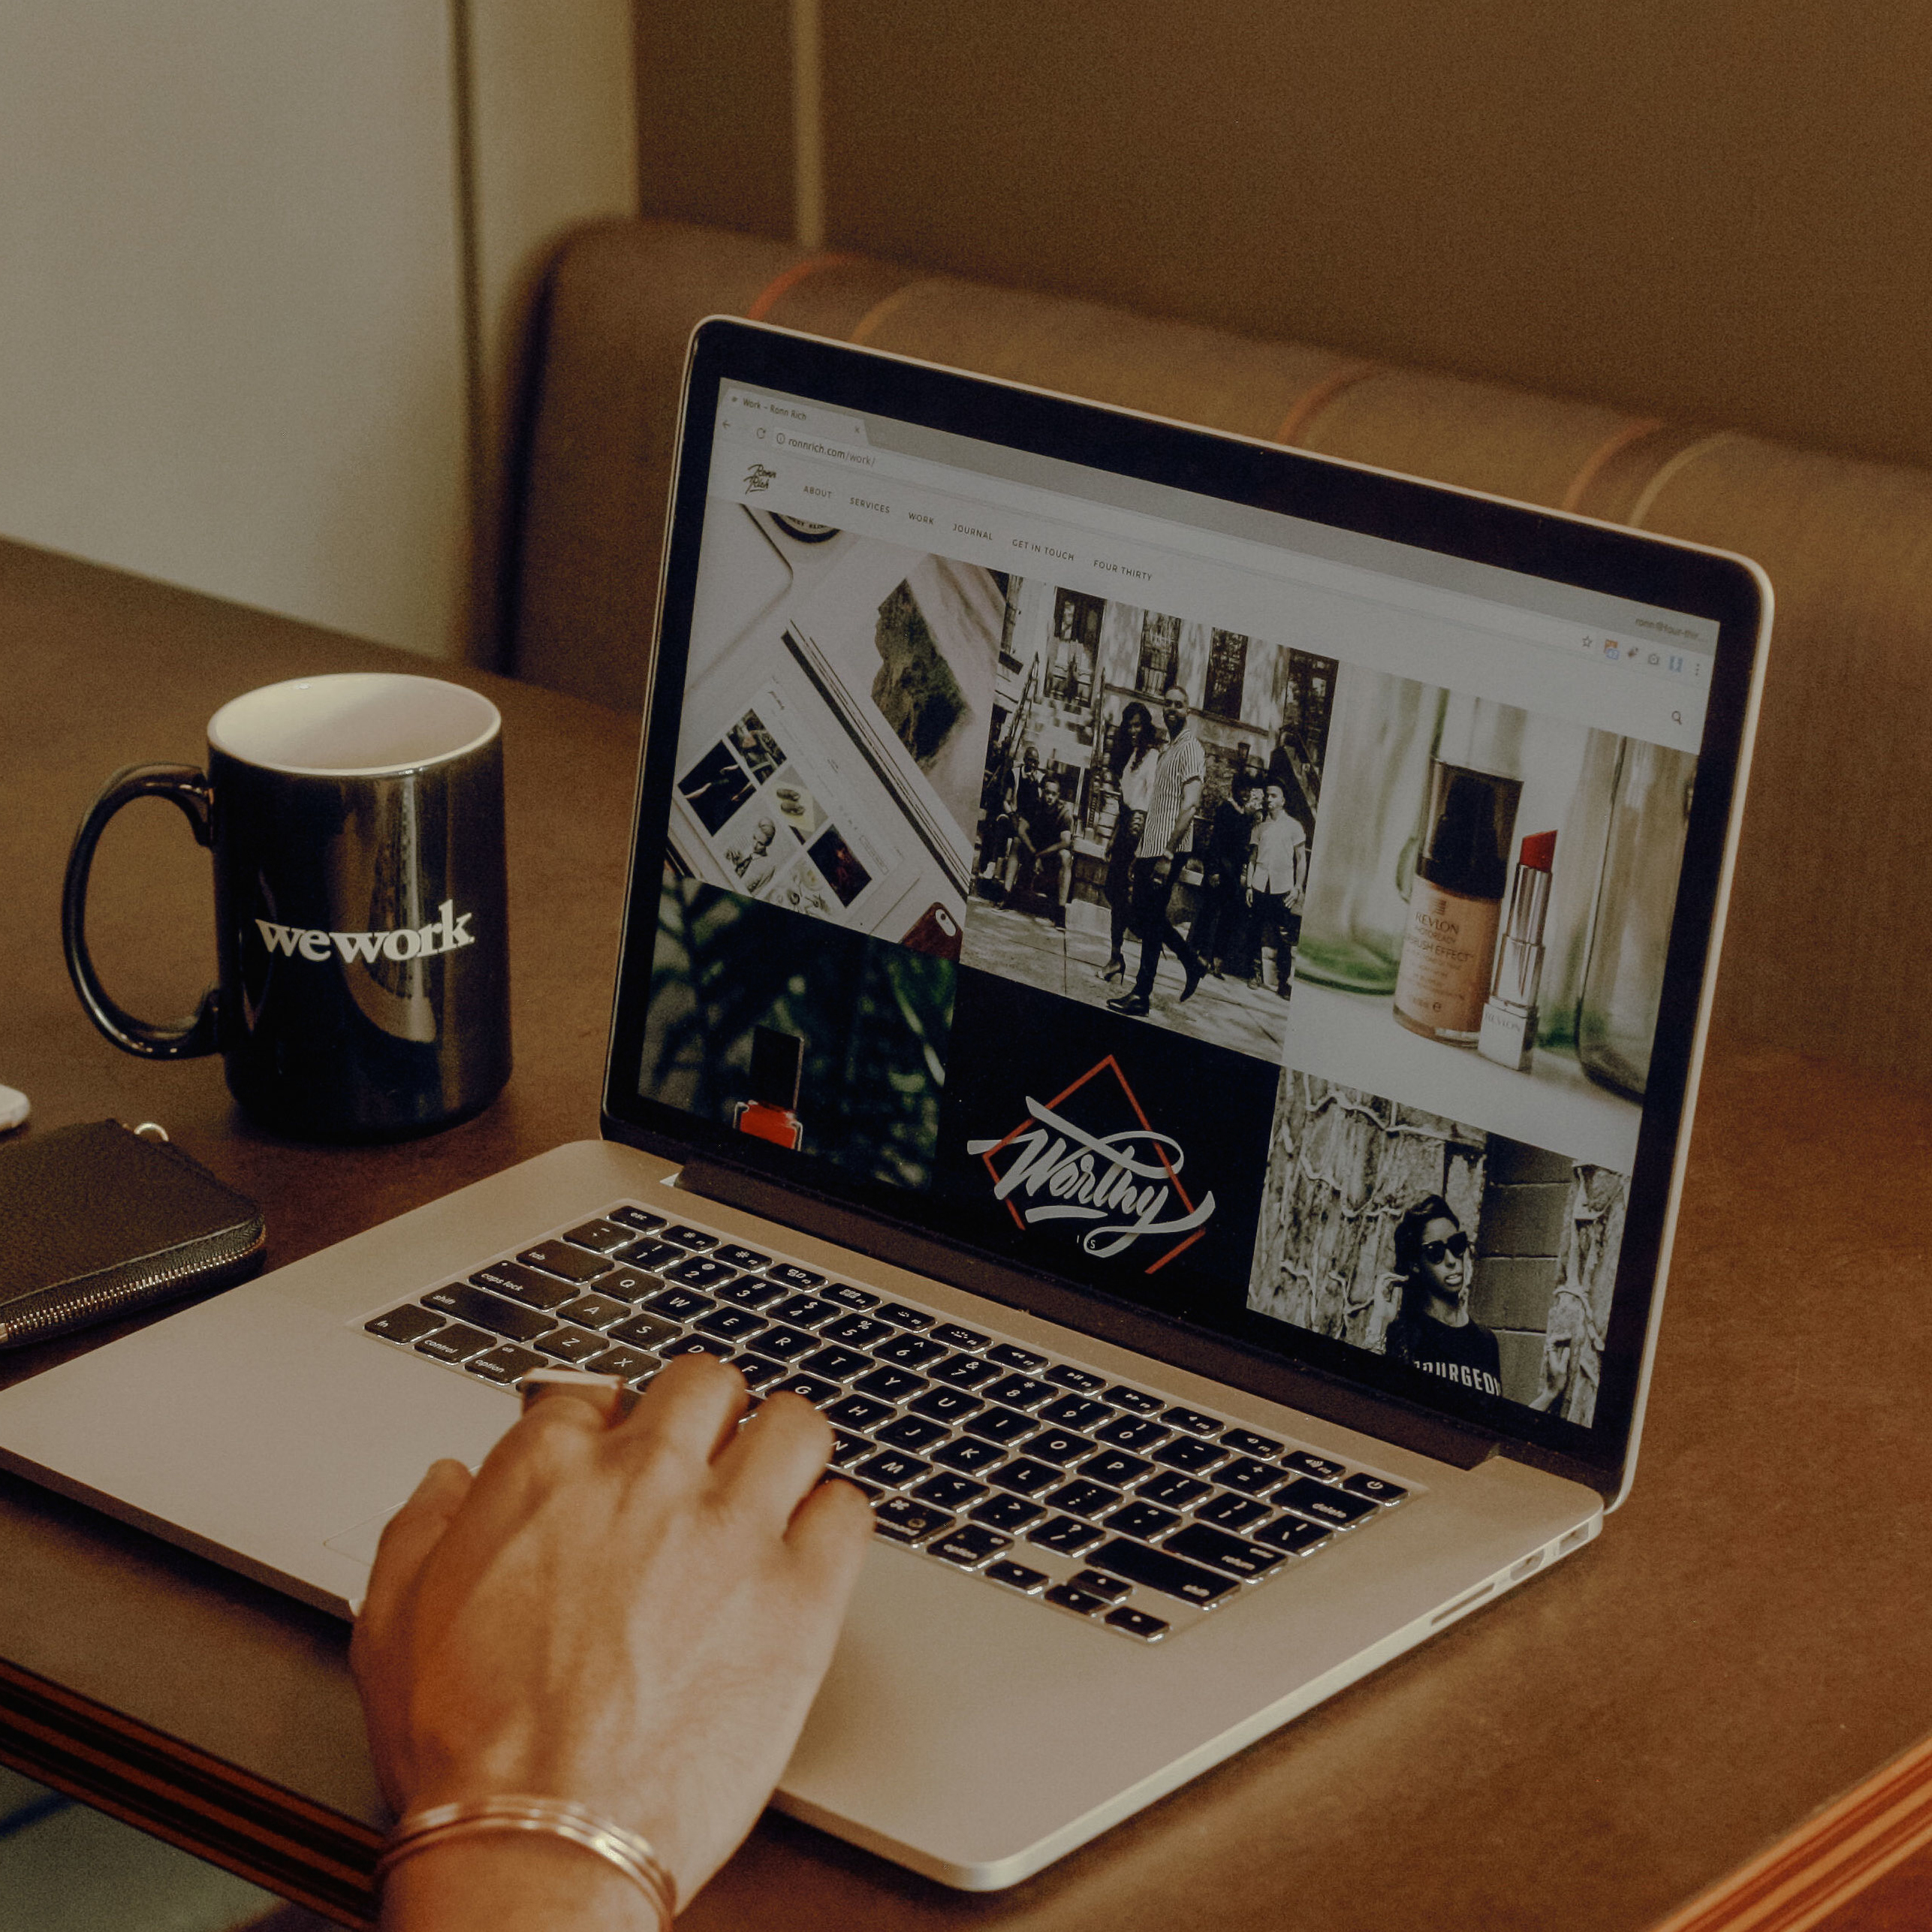wework: (251, 897, 479, 968)
